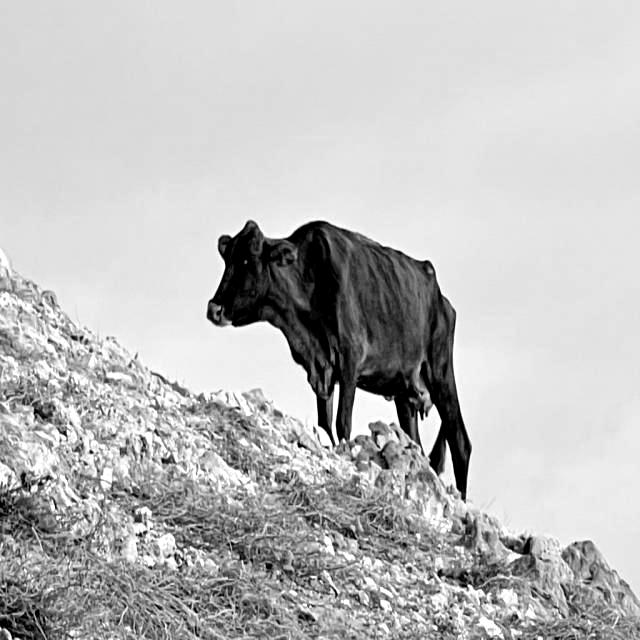COW: (208, 221, 471, 498)
